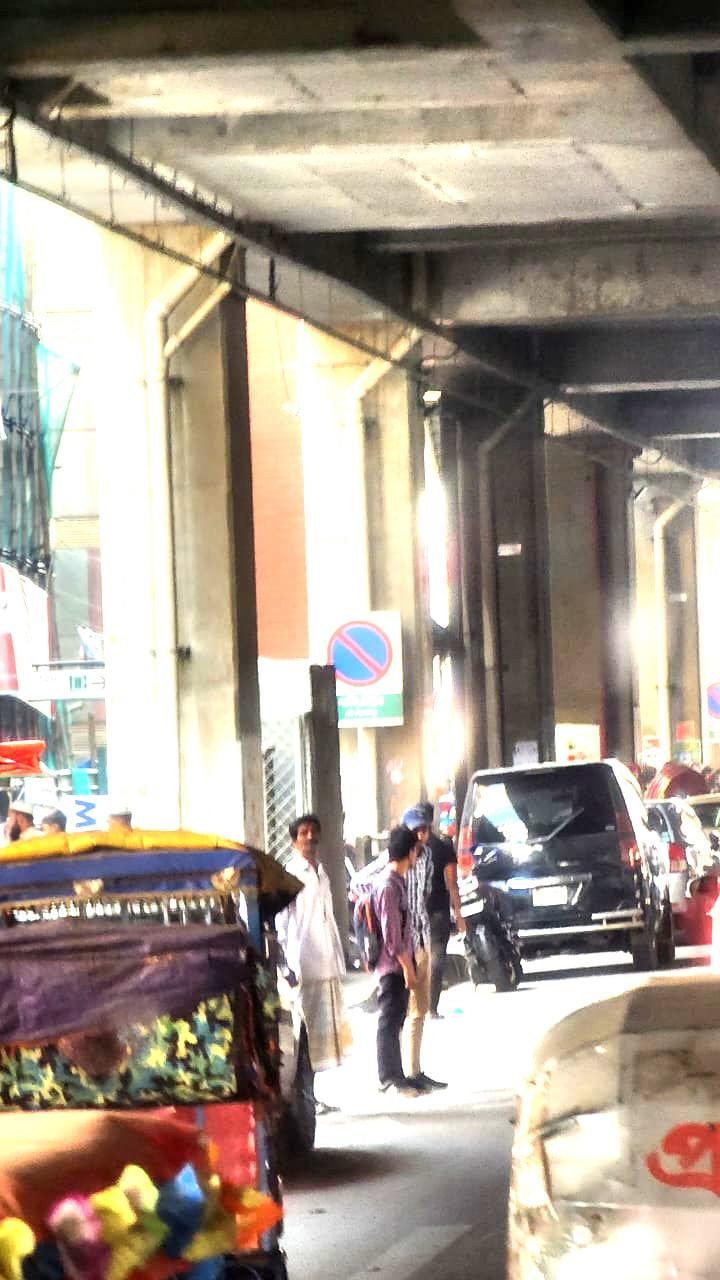No Parking: (333, 617, 405, 715)
